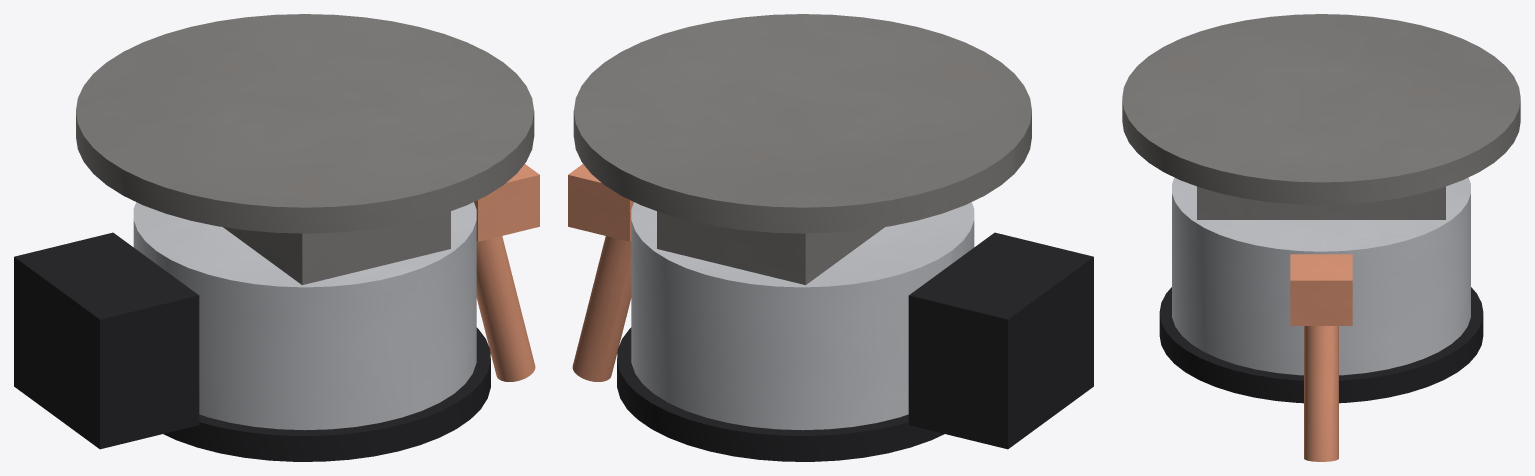
Rendered from prop02_hall_thruster.glb.
3 views of the same model, side by side, from view 1: azimuth 30°, elevation 25°; view 2: azimuth 150°, elevation 25°; view 3: azimuth 270°, elevation 25° (orthographic). The views are drawn at different scales.
Visible parts, largest first — view 1: mount_bracket, thruster_body, flow_controller, pole_pieces, cathode; view 2: mount_bracket, thruster_body, flow_controller, pole_pieces, cathode; view 3: mount_bracket, thruster_body, pole_pieces, cathode.
Part boxes in pixels (bbox=[...]): mount_bracket: bbox=[76, 14, 534, 285]; thruster_body: bbox=[133, 202, 476, 430]; flow_controller: bbox=[14, 232, 199, 449]; pole_pieces: bbox=[163, 327, 490, 461]; cathode: bbox=[474, 164, 539, 381]; mount_bracket: bbox=[573, 14, 1031, 285]; thruster_body: bbox=[631, 202, 974, 430]; flow_controller: bbox=[908, 232, 1093, 449]; pole_pieces: bbox=[617, 327, 944, 461]; cathode: bbox=[568, 164, 633, 381]; mount_bracket: bbox=[1122, 14, 1520, 219]; thruster_body: bbox=[1172, 177, 1470, 375]; pole_pieces: bbox=[1159, 287, 1483, 403]; cathode: bbox=[1290, 254, 1352, 461].
Size of the model in its own units: 0.3836 by 0.2434 by 0.32.
Materials: 4 (3 with a texture image).
